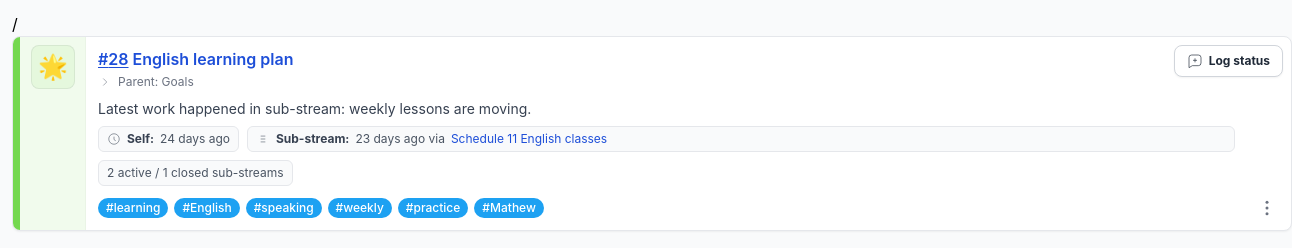
Scenario: WorkstreamCard tile layout › navigates to the stream from the main title link
The width and height of the screenshot is (1292, 248).
Click the link "#28 English learning plan" at (103, 59), box [98,49,294,69]
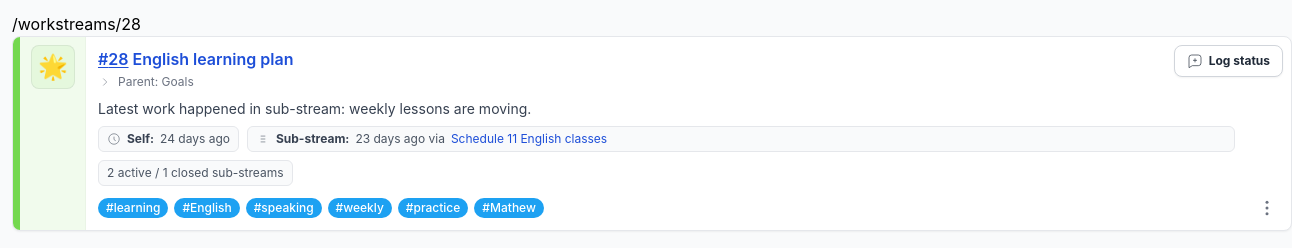
Check: the text named "Current path" reads "/workstreams/28", box [12,14,141,34]
